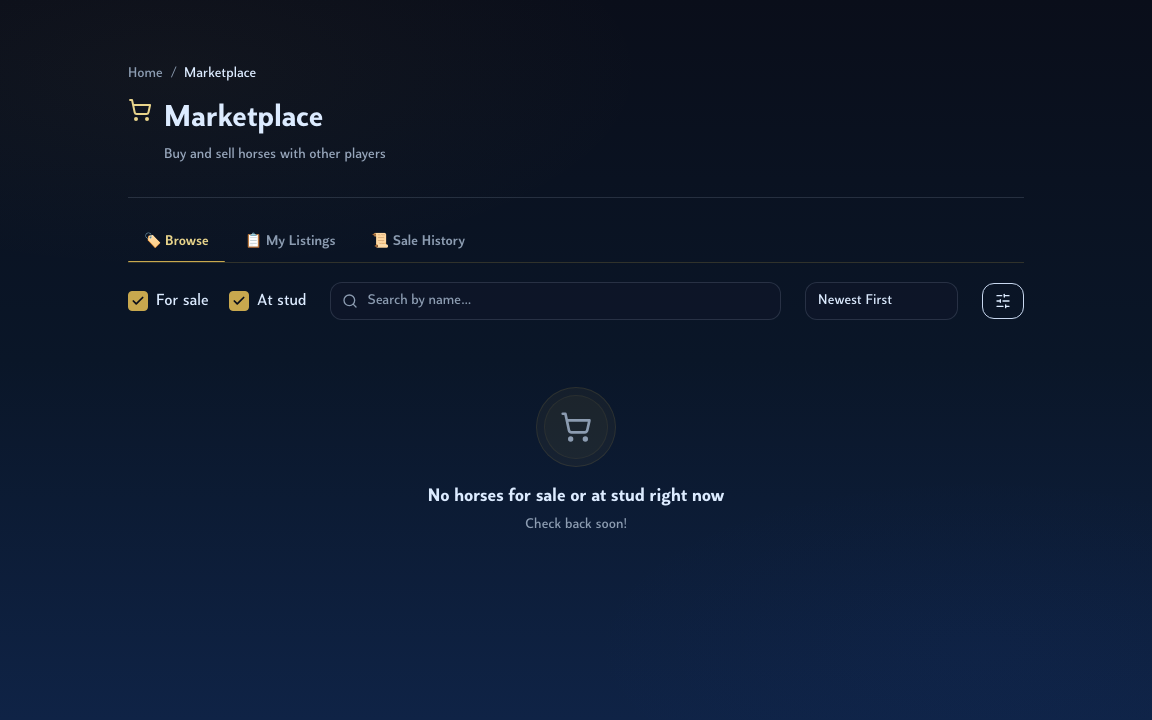
Test: HorseMarketplacePage — My Listings / Sale History tabs (Equoria-o5hub.30) › My Listings tab renders the seller's active listings with a Delist action
Click the tab with test id "tab-my-listings": (290, 242) [229, 222, 352, 262]
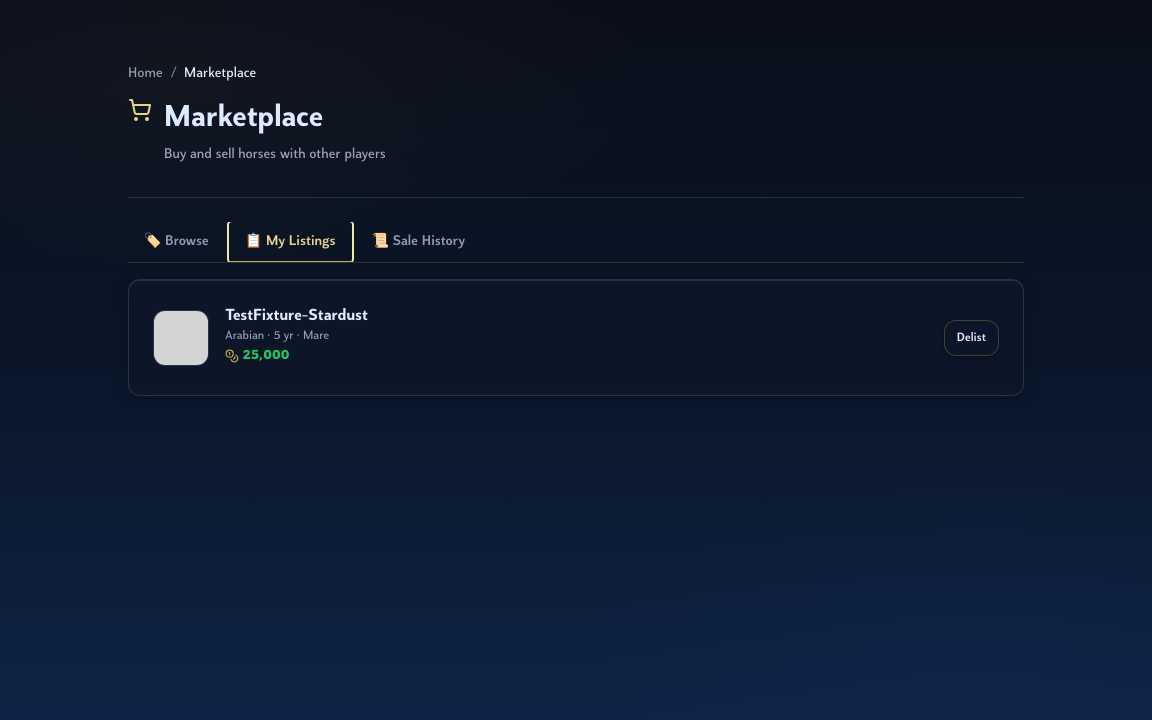
Now the text "TestFixture-Stardust" is shown, box [225, 308, 368, 324]
Now the button "Delist" is shown, box [944, 320, 999, 356]
